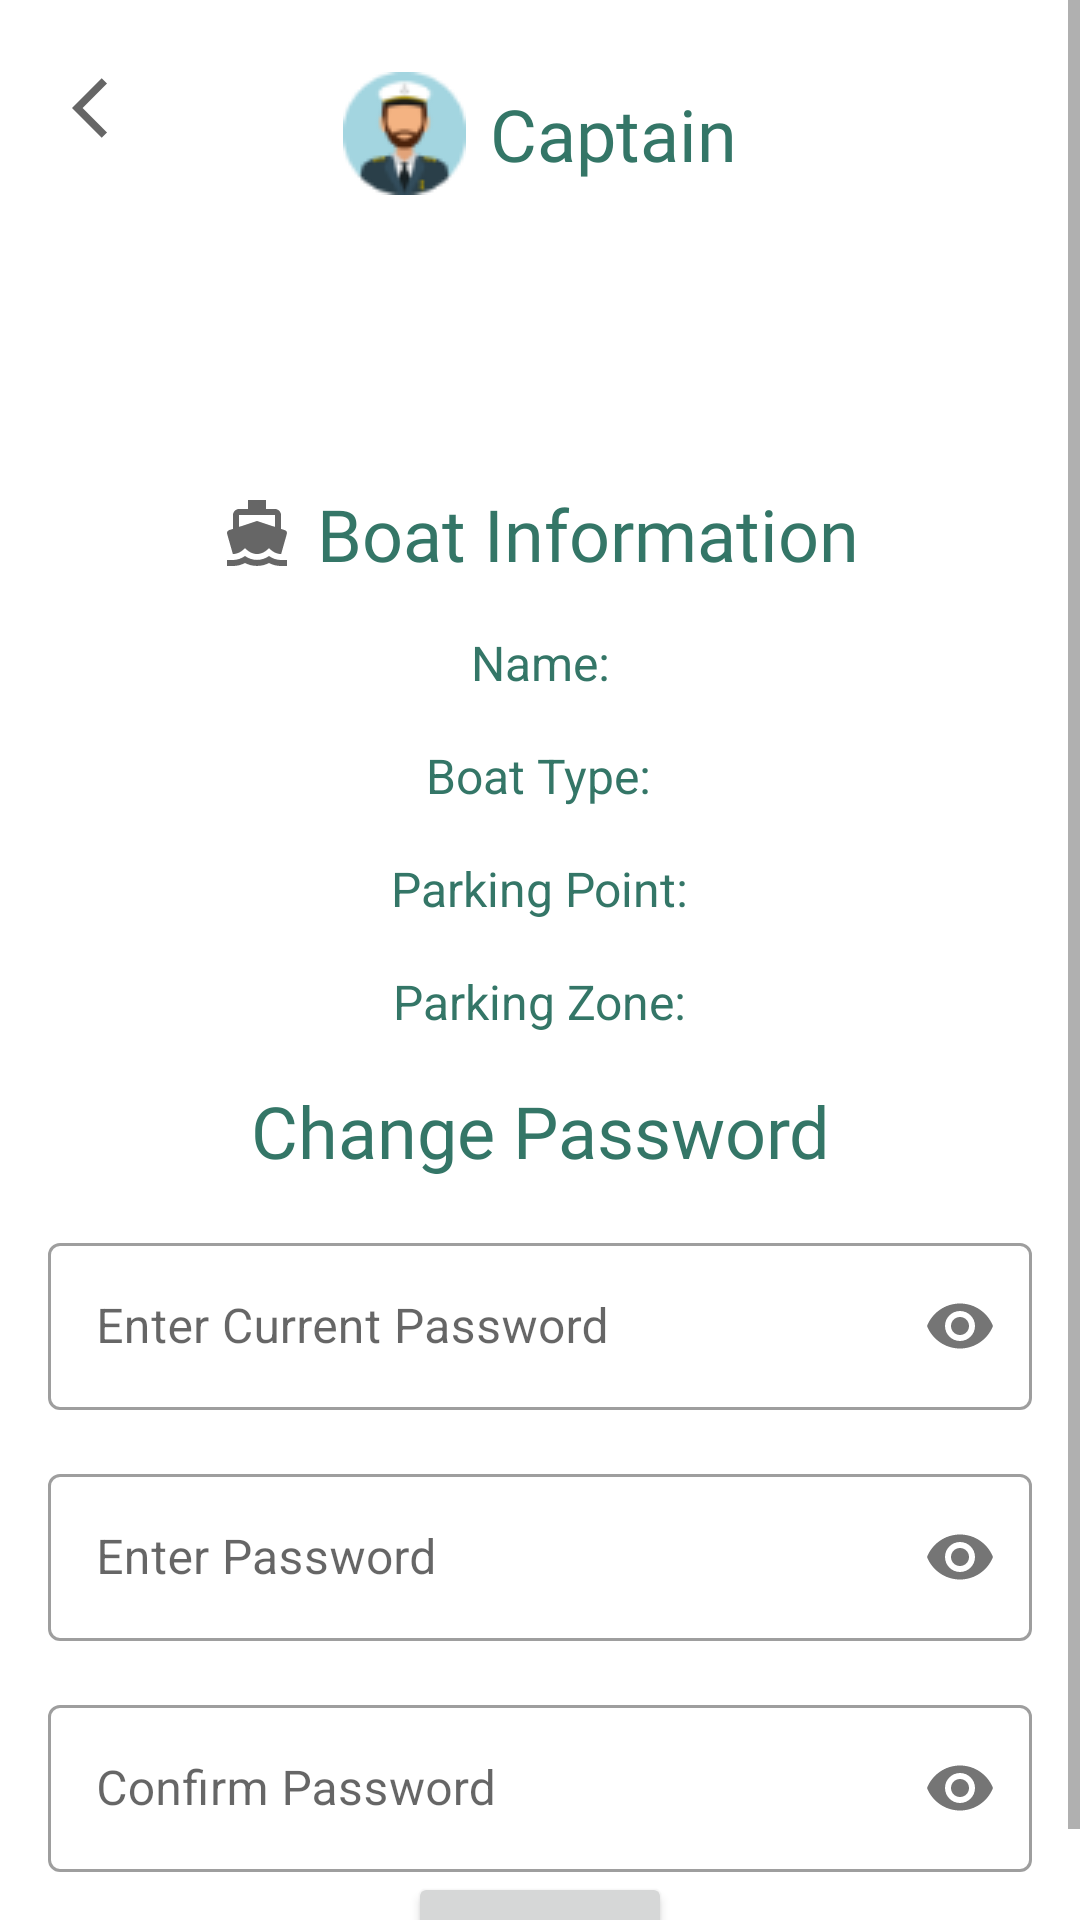

Icons on this 1080px×1920px Android screen, each with its box as detection(x1, y1, x2, y2):
arrow back: detection(72, 78, 107, 138)
